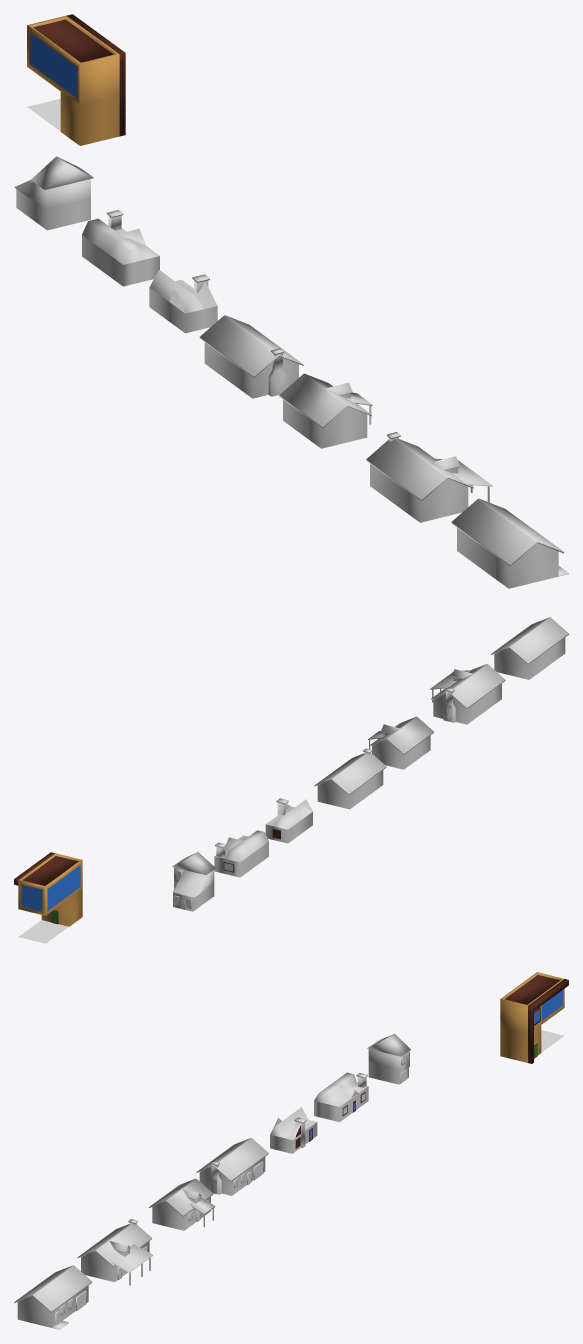
File: house.fbx
The picture shows the model from 3 angles, top to bottom: view 1: azimuth 30°, elevation 25°; view 2: azimuth 150°, elevation 25°; view 3: azimuth 330°, elevation 25°; orthographic projection. The views are drawn at different scales.
Visible parts, largest first — view 1: Cube.018, Cube.001, Plane.011, Plane.006, Plane.004, Plane.002, Plane.009, Plane.026, Plane.025, Plane.001, Cube.028, Cube.015 (+4 smaller); view 2: Cube.018, Cube.001, Plane.011, Plane.006, Plane.004, Plane.002, Plane.026, Plane.001, Plane.009, Plane.025, Cube.014, Cube.028 (+4 smaller); view 3: Cube.018, Plane.011, Cube.001, Plane.006, Plane.002, Plane.026, Plane.004, Cube.028, Plane.025, Plane.009, Cube.019, Cube.015 (+3 smaller).
Boxes of the visible parts, left/top/right/bottom form: Cube.018: left=27, top=15, right=119, bottom=145; Cube.001: left=14, top=156, right=93, bottom=230; Plane.011: left=366, top=438, right=492, bottom=501; Plane.006: left=451, top=498, right=563, bottom=566; Plane.004: left=457, top=528, right=558, bottom=588; Plane.002: left=199, top=315, right=303, bottom=377; Plane.009: left=370, top=464, right=468, bottom=522; Plane.026: left=279, top=373, right=372, bottom=428; Plane.025: left=283, top=393, right=367, bottom=448; Plane.001: left=204, top=342, right=298, bottom=398; Cube.028: left=82, top=218, right=159, bottom=264; Cube.015: left=82, top=235, right=159, bottom=286; Cube.018: left=18, top=853, right=82, bottom=926; Cube.001: left=172, top=852, right=215, bottom=911; Plane.011: left=430, top=664, right=505, bottom=708; Plane.006: left=490, top=617, right=568, bottom=664; Plane.004: left=494, top=638, right=565, bottom=679; Plane.002: left=314, top=753, right=386, bottom=794; Plane.026: left=368, top=716, right=433, bottom=754; Plane.001: left=317, top=770, right=383, bottom=809; Plane.009: left=433, top=677, right=501, bottom=724; Plane.025: left=372, top=731, right=430, bottom=769; Cube.014: left=21, top=874, right=68, bottom=911; Cube.028: left=215, top=830, right=268, bottom=862; Cube.018: left=500, top=972, right=564, bottom=1062; Plane.011: left=77, top=1223, right=152, bottom=1272; Cube.001: left=367, top=1033, right=410, bottom=1084; Plane.006: left=14, top=1265, right=92, bottom=1312; Plane.002: left=196, top=1138, right=268, bottom=1181; Plane.026: left=149, top=1178, right=214, bottom=1216; Plane.004: left=17, top=1286, right=88, bottom=1327; Cube.028: left=314, top=1072, right=367, bottom=1106; Plane.025: left=152, top=1194, right=210, bottom=1230; Plane.009: left=81, top=1241, right=149, bottom=1282; Cube.019: left=528, top=979, right=568, bottom=1063; Cube.015: left=314, top=1086, right=368, bottom=1122.
Bounding box in the file's own units: 5992 × 2623 × 35654.
